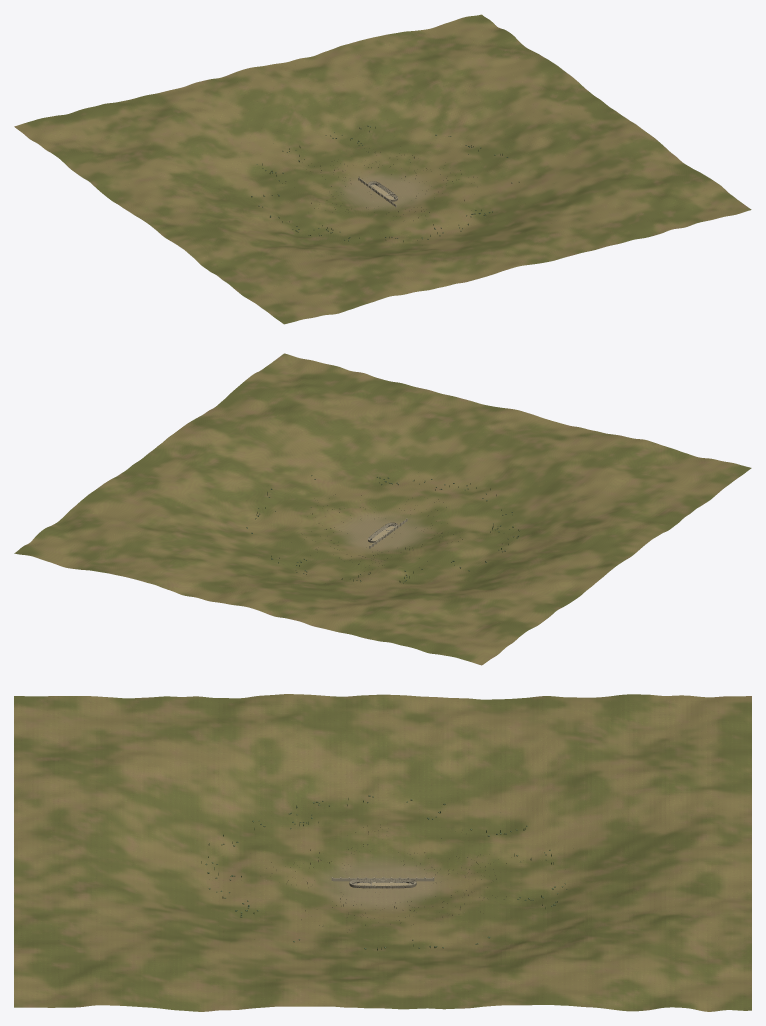
The model's file is aphrodisias-stadyumu-baked.glb.
3 renders of one model, top to bottom at view 1: azimuth 30°, elevation 25°; view 2: azimuth 150°, elevation 25°; view 3: azimuth 270°, elevation 25°, orthographic. The views are drawn at different scales.
Visible parts, largest first — view 1: aphrodisias-stadyumu-terrain; view 2: aphrodisias-stadyumu-terrain; view 3: aphrodisias-stadyumu-terrain, aphrodisias-stadyumu-near, aphrodisias-stadyumu-flora.
Boxes of the visible parts, x1,y1,x2,y2 form: aphrodisias-stadyumu-terrain: [14, 14, 751, 324]; aphrodisias-stadyumu-terrain: [14, 353, 751, 665]; aphrodisias-stadyumu-terrain: [14, 694, 751, 1011]; aphrodisias-stadyumu-near: [331, 877, 434, 889]; aphrodisias-stadyumu-flora: [201, 795, 567, 950].
Size of the model in its own units: 2996 by 170 by 2996.
Materials: 25 (16 with a texture image).
